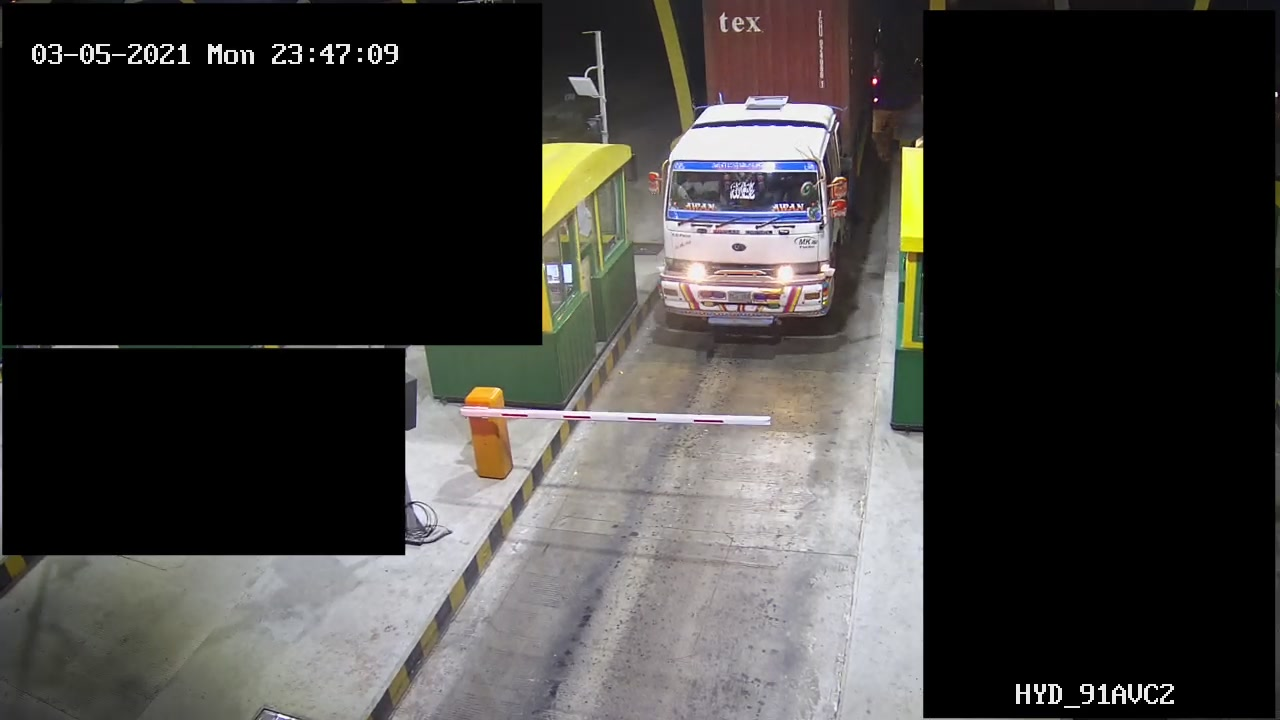F6: (648, 1, 877, 352)
